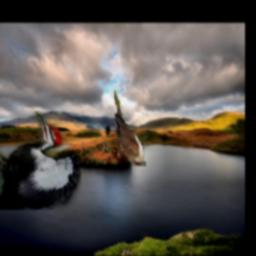Cuckoo: (113, 90, 146, 167)
Woodpecker: (0, 112, 80, 211)
